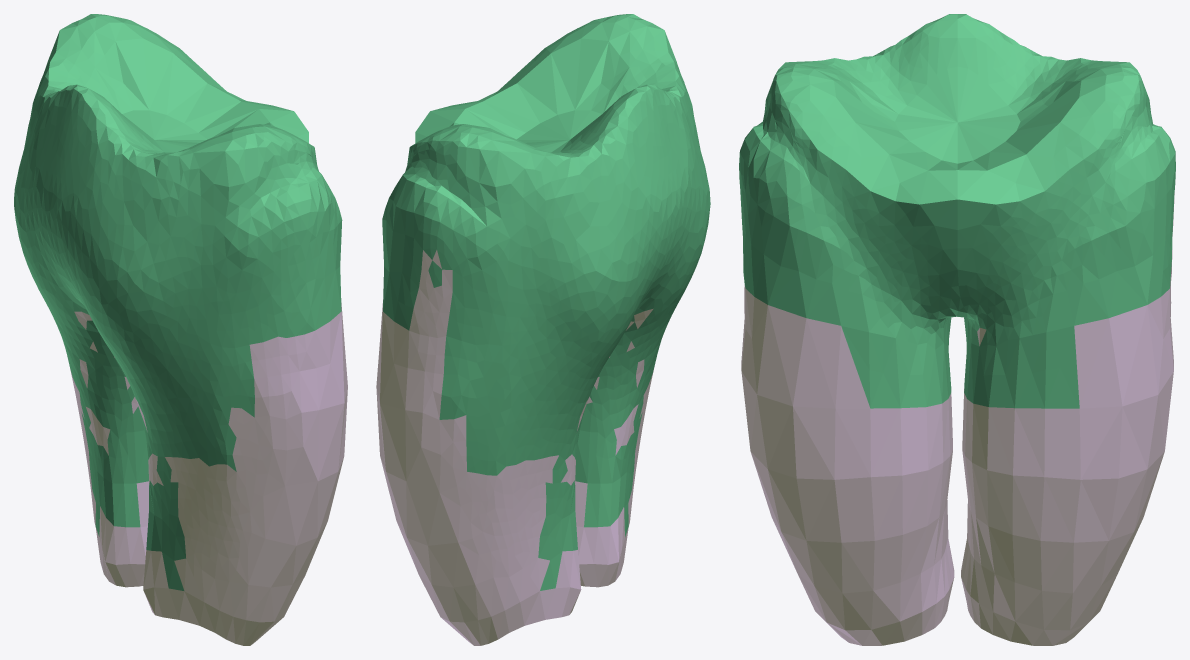
File: hips_variant-2.glb
3 views of the same model, side by side, from view 1: azimuth 30°, elevation 25°; view 2: azimuth 150°, elevation 25°; view 3: azimuth 270°, elevation 25° (orthographic). The views are drawn at different scales.
Visible parts, largest first — view 1: bottom-3; view 2: bottom-3; view 3: bottom-3.
Boxes of the visible parts, x1,y1,x2,y2 form: bottom-3: (14, 14, 347, 645); bottom-3: (376, 14, 710, 645); bottom-3: (739, 14, 1175, 645).
Size of the model in its own units: 0.6662 by 1.42 by 0.9948.
